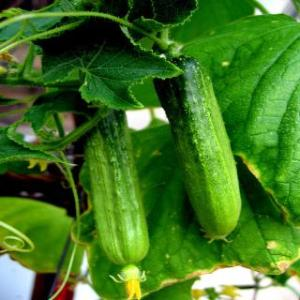cucumber: (150, 50, 246, 242), (78, 91, 154, 269)
